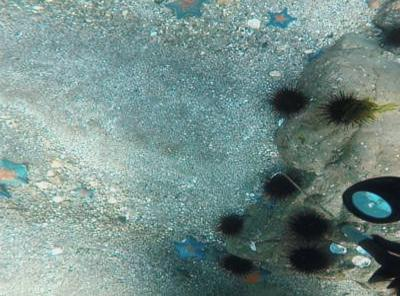urchin: (326, 89, 376, 129), (290, 207, 332, 243), (268, 84, 310, 117), (290, 241, 332, 274), (263, 170, 304, 199), (221, 251, 253, 277), (218, 211, 245, 237)
